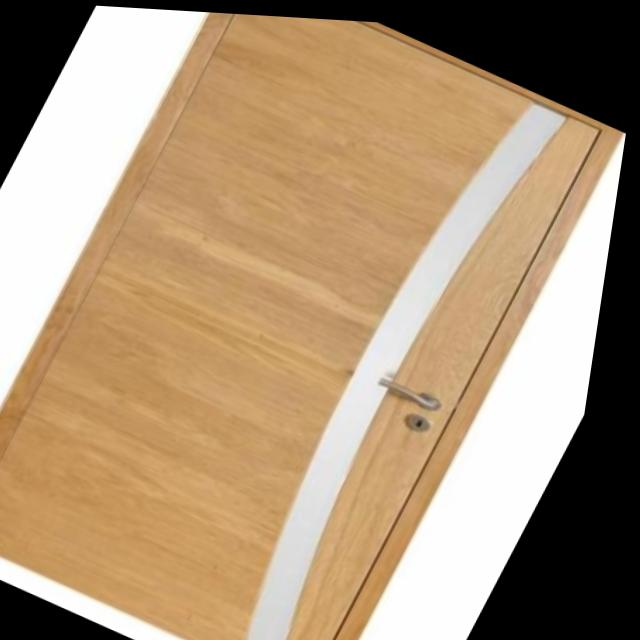door_handle: (369, 359, 465, 415)
